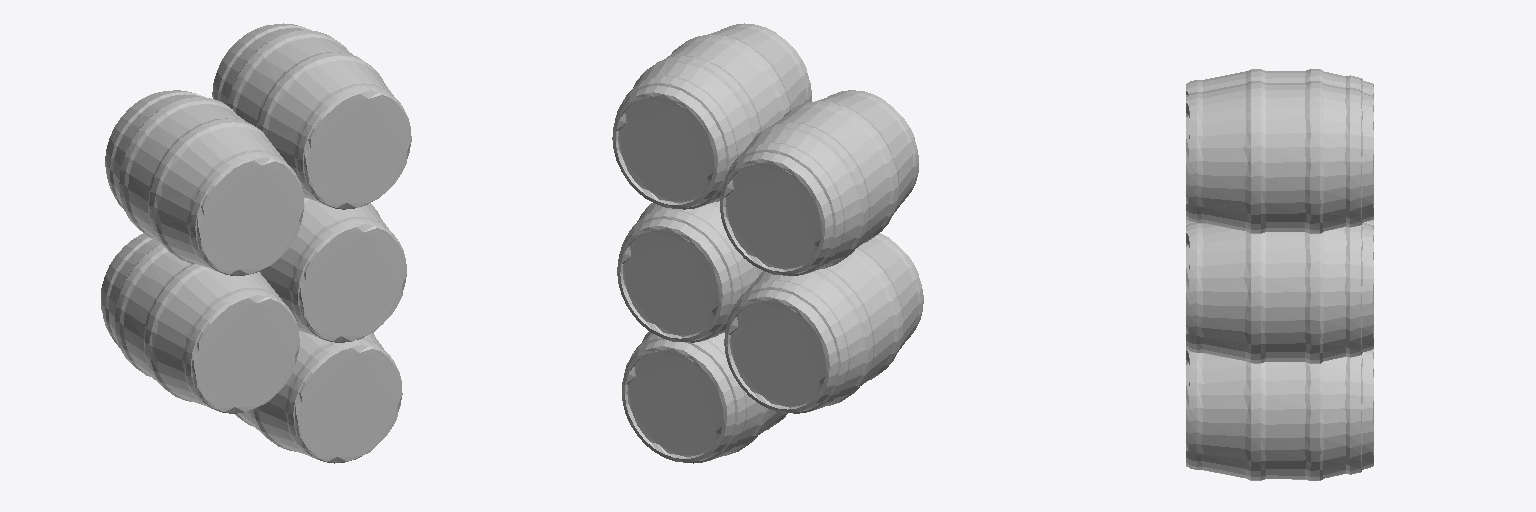
File: 3barrel.obj
3 renders of one model, left to right at view 1: azimuth 30°, elevation 25°; view 2: azimuth 150°, elevation 25°; view 3: azimuth 270°, elevation 25°, orthographic.
Visible parts, largest first — view 1: Cylinder.005, Cylinder.004, Cylinder.002, Cylinder, Cylinder.001; view 2: Cylinder.005, Cylinder.004, Cylinder.002, Cylinder, Cylinder.001; view 3: Cylinder.002, Cylinder, Cylinder.001, Cylinder.005.
Boxes of the visible parts, box(x1,y1,x2,y2) form: Cylinder.005: box(105, 90, 304, 275); Cylinder.004: box(101, 233, 299, 413); Cylinder.002: box(212, 23, 411, 209); Cylinder: box(260, 198, 406, 342); Cylinder.001: box(235, 331, 402, 463); Cylinder.005: box(720, 90, 918, 275); Cylinder.004: box(724, 233, 923, 413); Cylinder.002: box(612, 23, 811, 209); Cylinder: box(617, 201, 762, 342); Cylinder.001: box(622, 331, 787, 463); Cylinder.002: box(1186, 81, 1373, 233); Cylinder: box(1186, 223, 1373, 363); Cylinder.001: box(1186, 349, 1373, 480); Cylinder.005: box(1186, 69, 1373, 95).
Size of the model in its own units: 3.84 by 5.93 by 2.59.